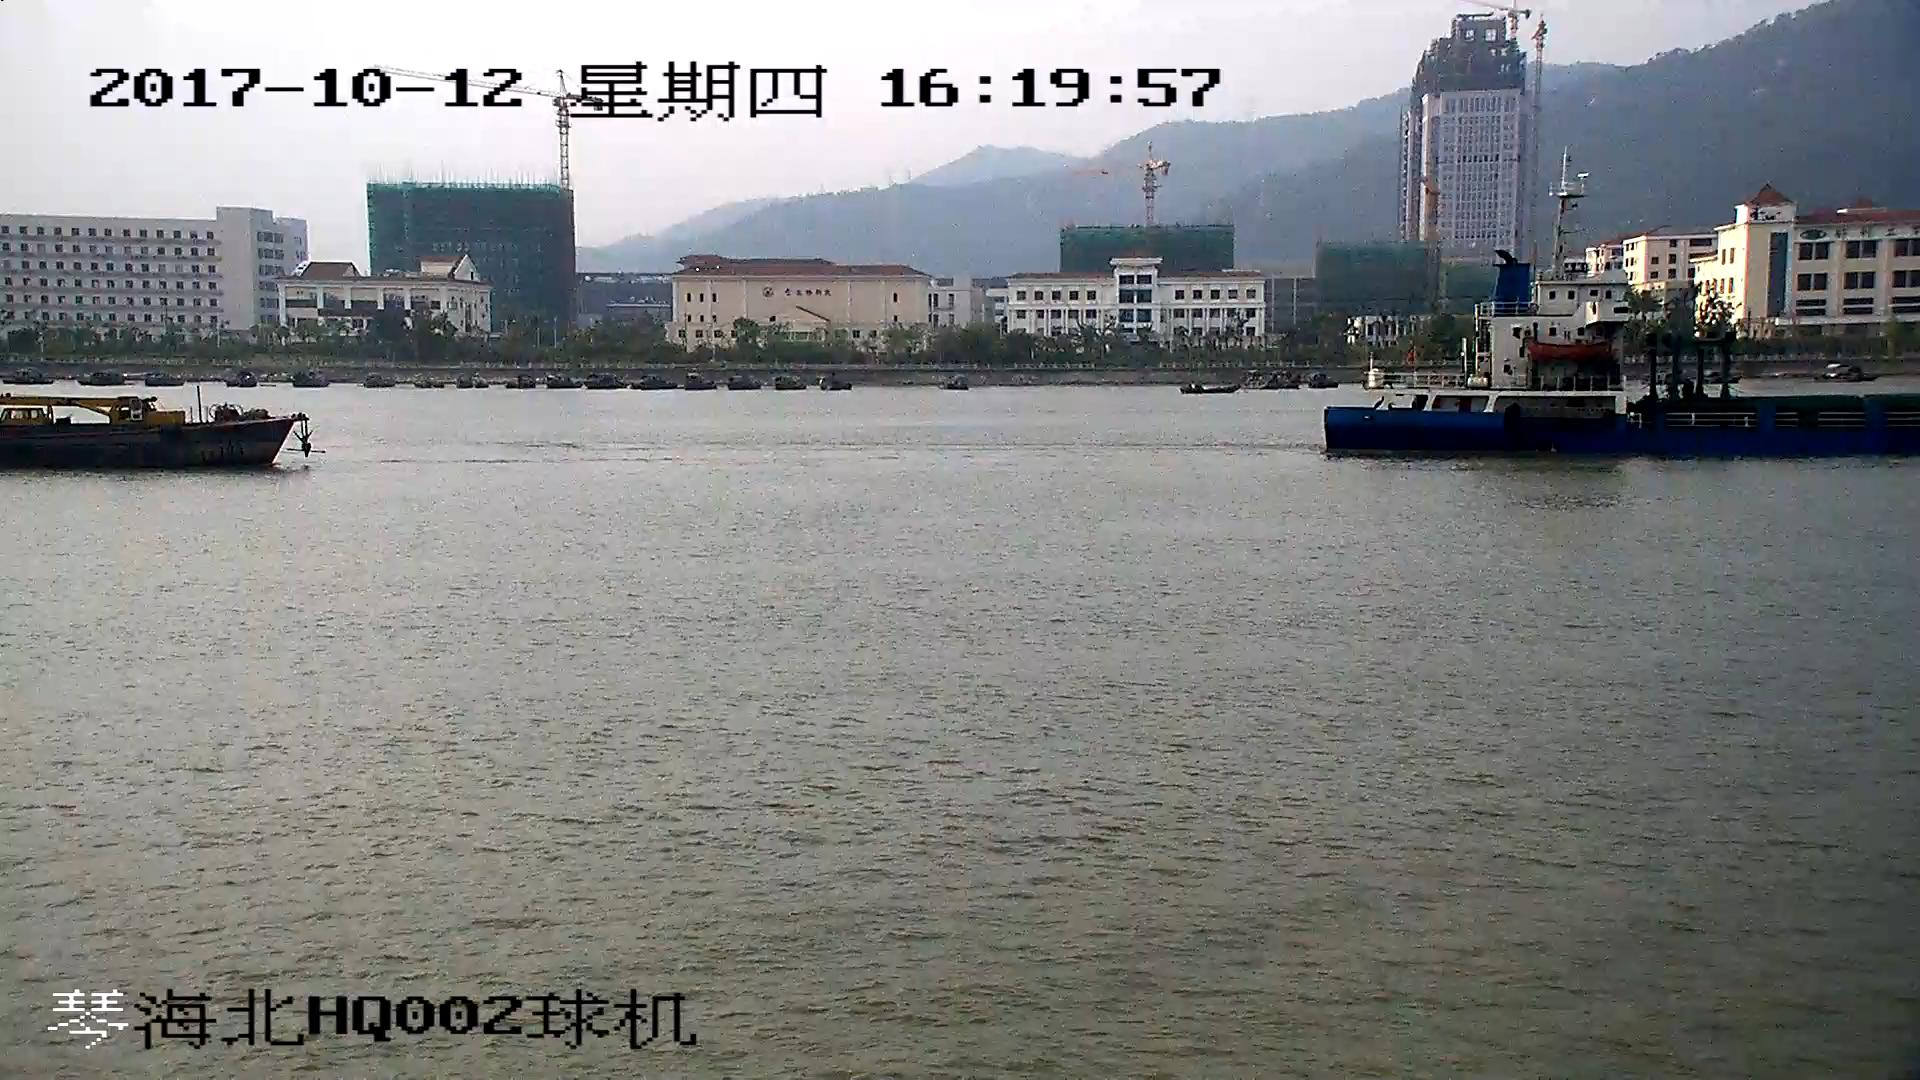bulk cargo carrier: (1317, 190, 1920, 458)
fishing boat: (1, 391, 317, 468)
